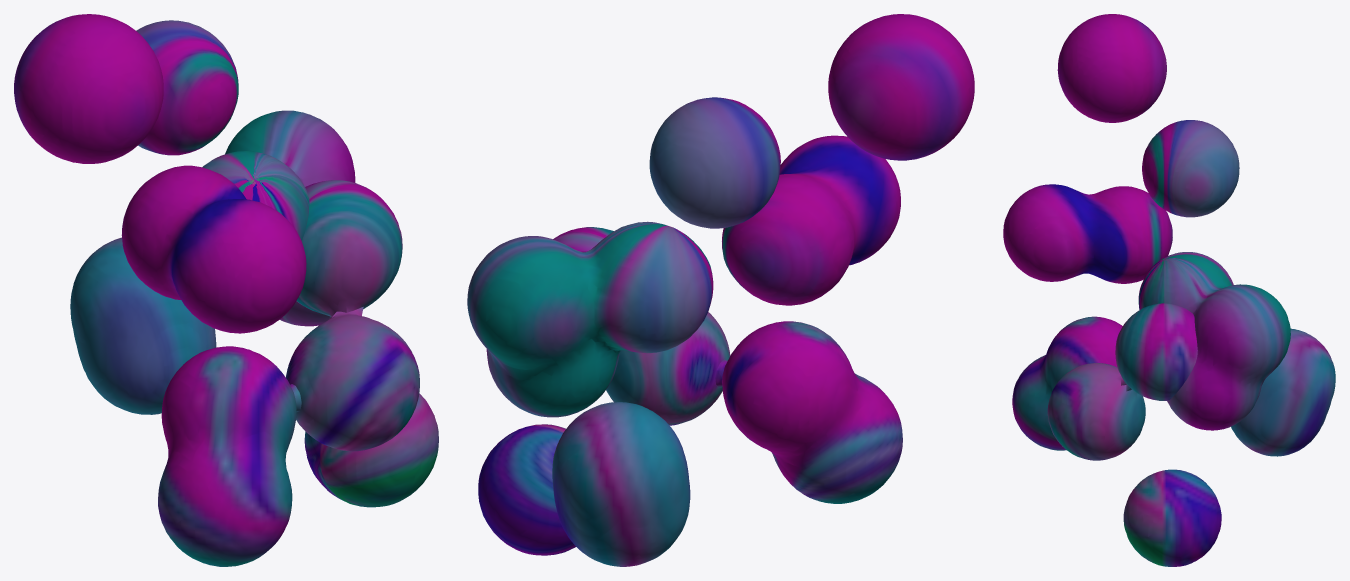
Rendered from music.glb.
3 renders of one model, left to right at view 1: azimuth 30°, elevation 25°; view 2: azimuth 150°, elevation 25°; view 3: azimuth 270°, elevation 25°, orthographic. The views are drawn at different scales.
Visible parts, largest first — view 1: Metaball; view 2: Metaball; view 3: Metaball.
Boxes of the visible parts, box(x1,y1,x2,y2) form: Metaball: box(14, 14, 438, 566); Metaball: box(467, 14, 974, 566); Metaball: box(1003, 14, 1335, 566).
Size of the model in its own units: 129 by 162 by 114.
Materials: 1 (1 with a texture image).
